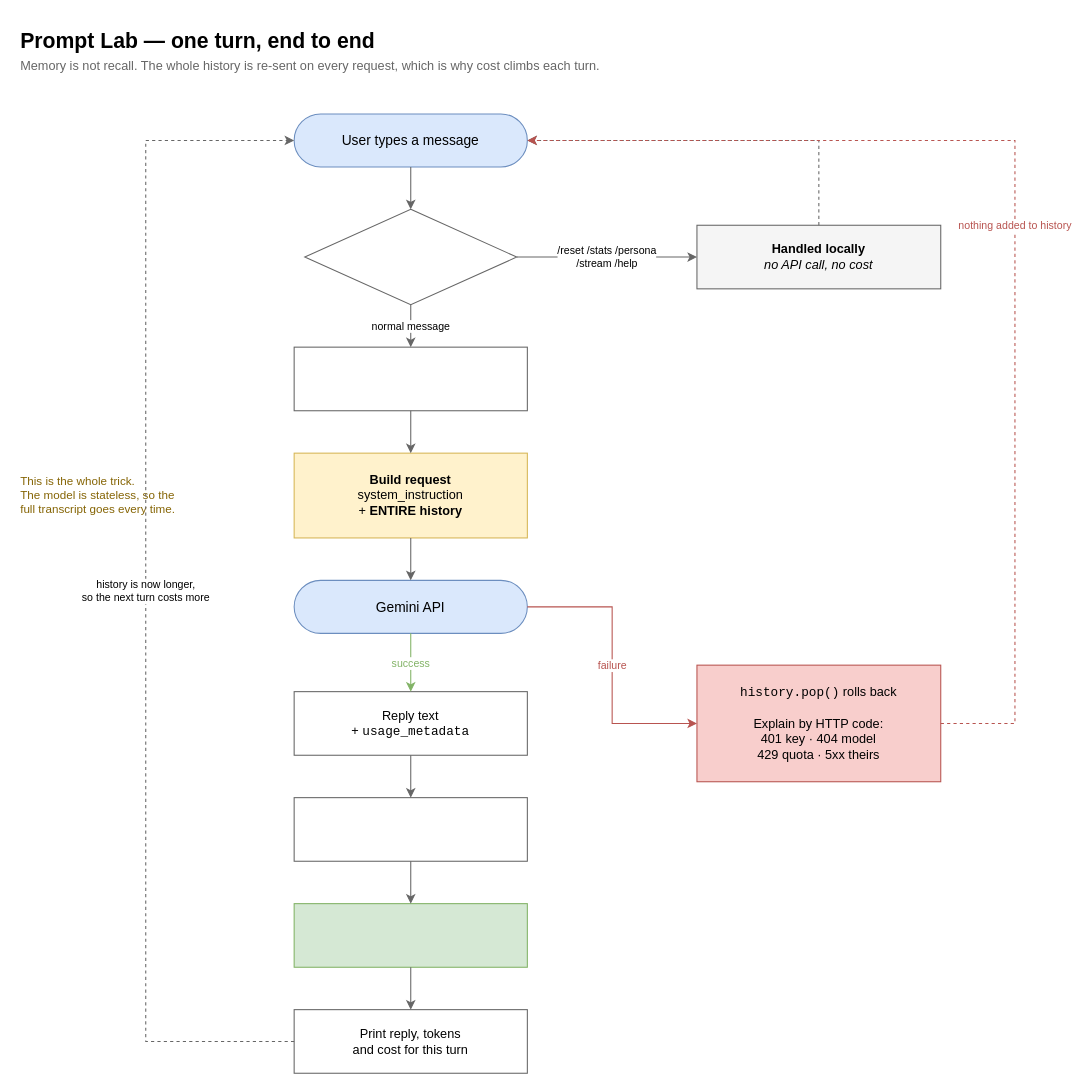
Some shapes in this 1090 by 1092 pixel diagram are drawn without their labels. The shapes that lost their labels are listed below. From the top down, each one's centre as x and y in pixels, then its label:
pixel 410 256: Is it a command?
pixel 410 378: Append to history role = user
pixel 410 829: Append to history role = model
pixel 410 935: cost_of(input, output) Update session totals
